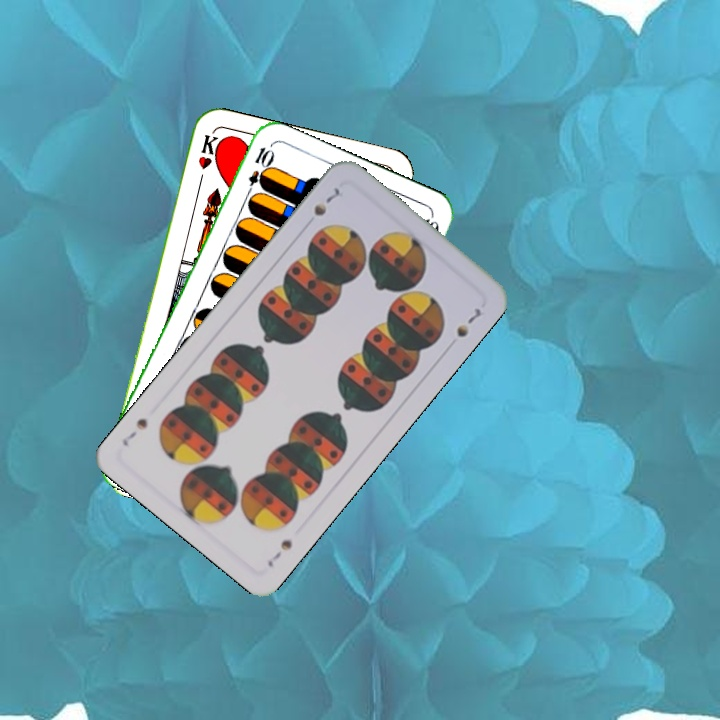E10: (241, 143, 273, 200)
HK: (194, 130, 221, 189)
S7: (309, 183, 343, 219), (263, 535, 295, 570)
